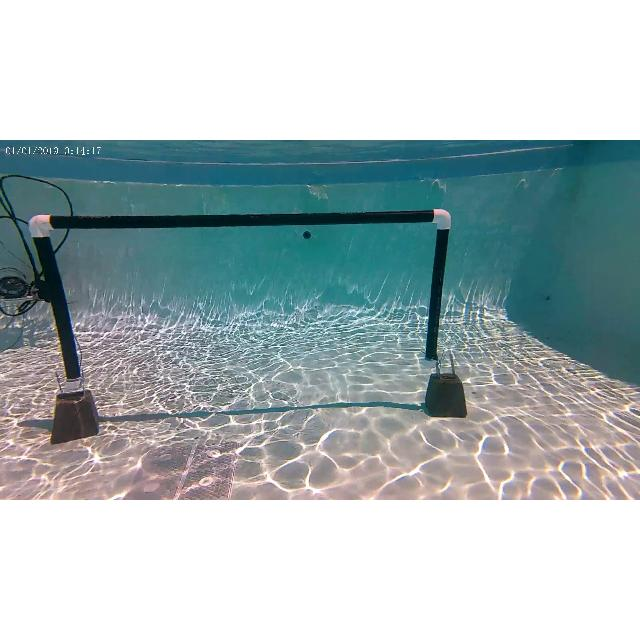prequal gate: (29, 208, 451, 390)
prequal gate leg l: (26, 212, 100, 444)
prequal gate leg r: (422, 206, 463, 414)
